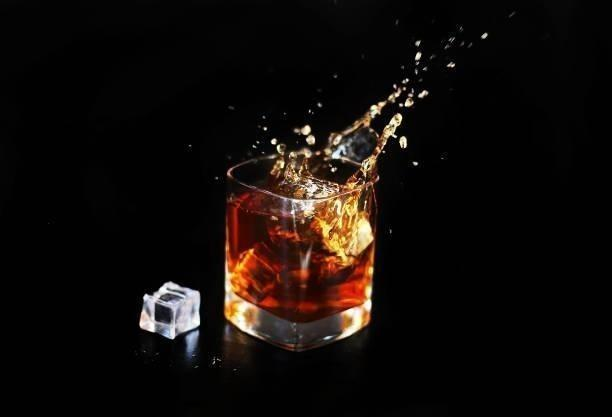glass-normal: (222, 150, 380, 352)
